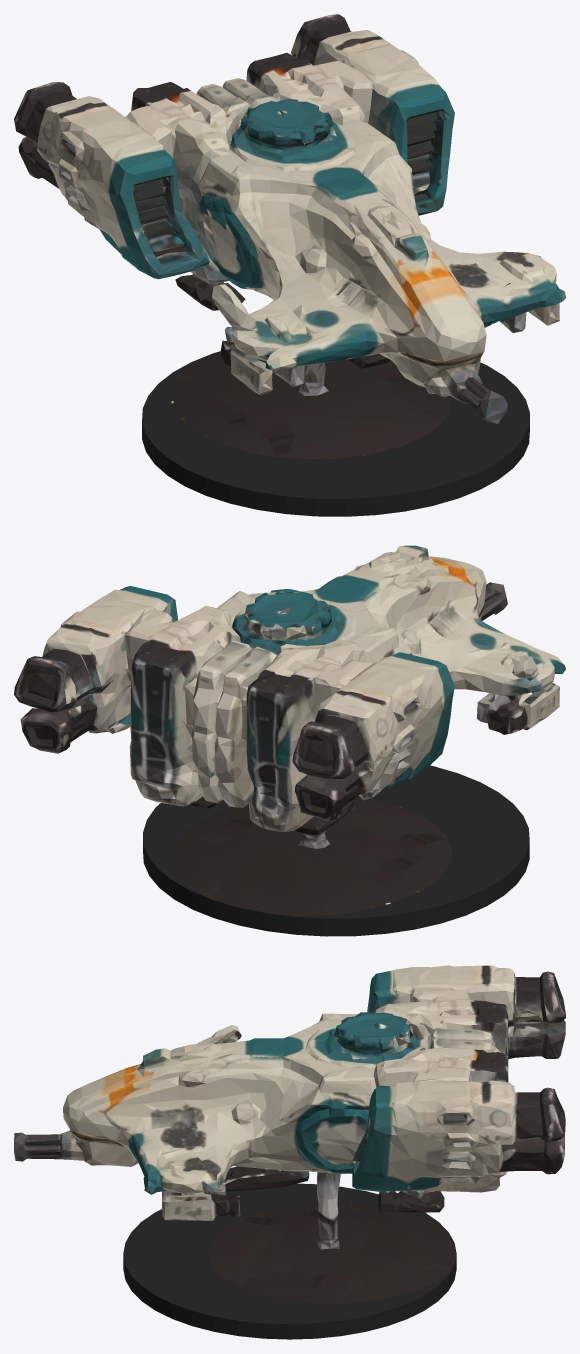
Rendered from devilfish.glb.
The picture shows the model from 3 angles, top to bottom: view 1: azimuth 30°, elevation 25°; view 2: azimuth 150°, elevation 25°; view 3: azimuth 270°, elevation 25°; orthographic projection. The views are drawn at different scales.
Parts seen in each view (by area): view 1: figure, base; view 2: figure, base; view 3: figure, base.
Part boxes in pixels (<box>): figure: <box>14,14,565,459</box>; base: <box>142,351,529,516</box>; figure: <box>14,545,565,915</box>; base: <box>143,765,529,936</box>; figure: <box>14,965,565,1303</box>; base: <box>123,1183,456,1339</box>.
Size of the model in its own units: 2.42 by 1.92 by 3.91.
Materials: 2 (1 with a texture image).
